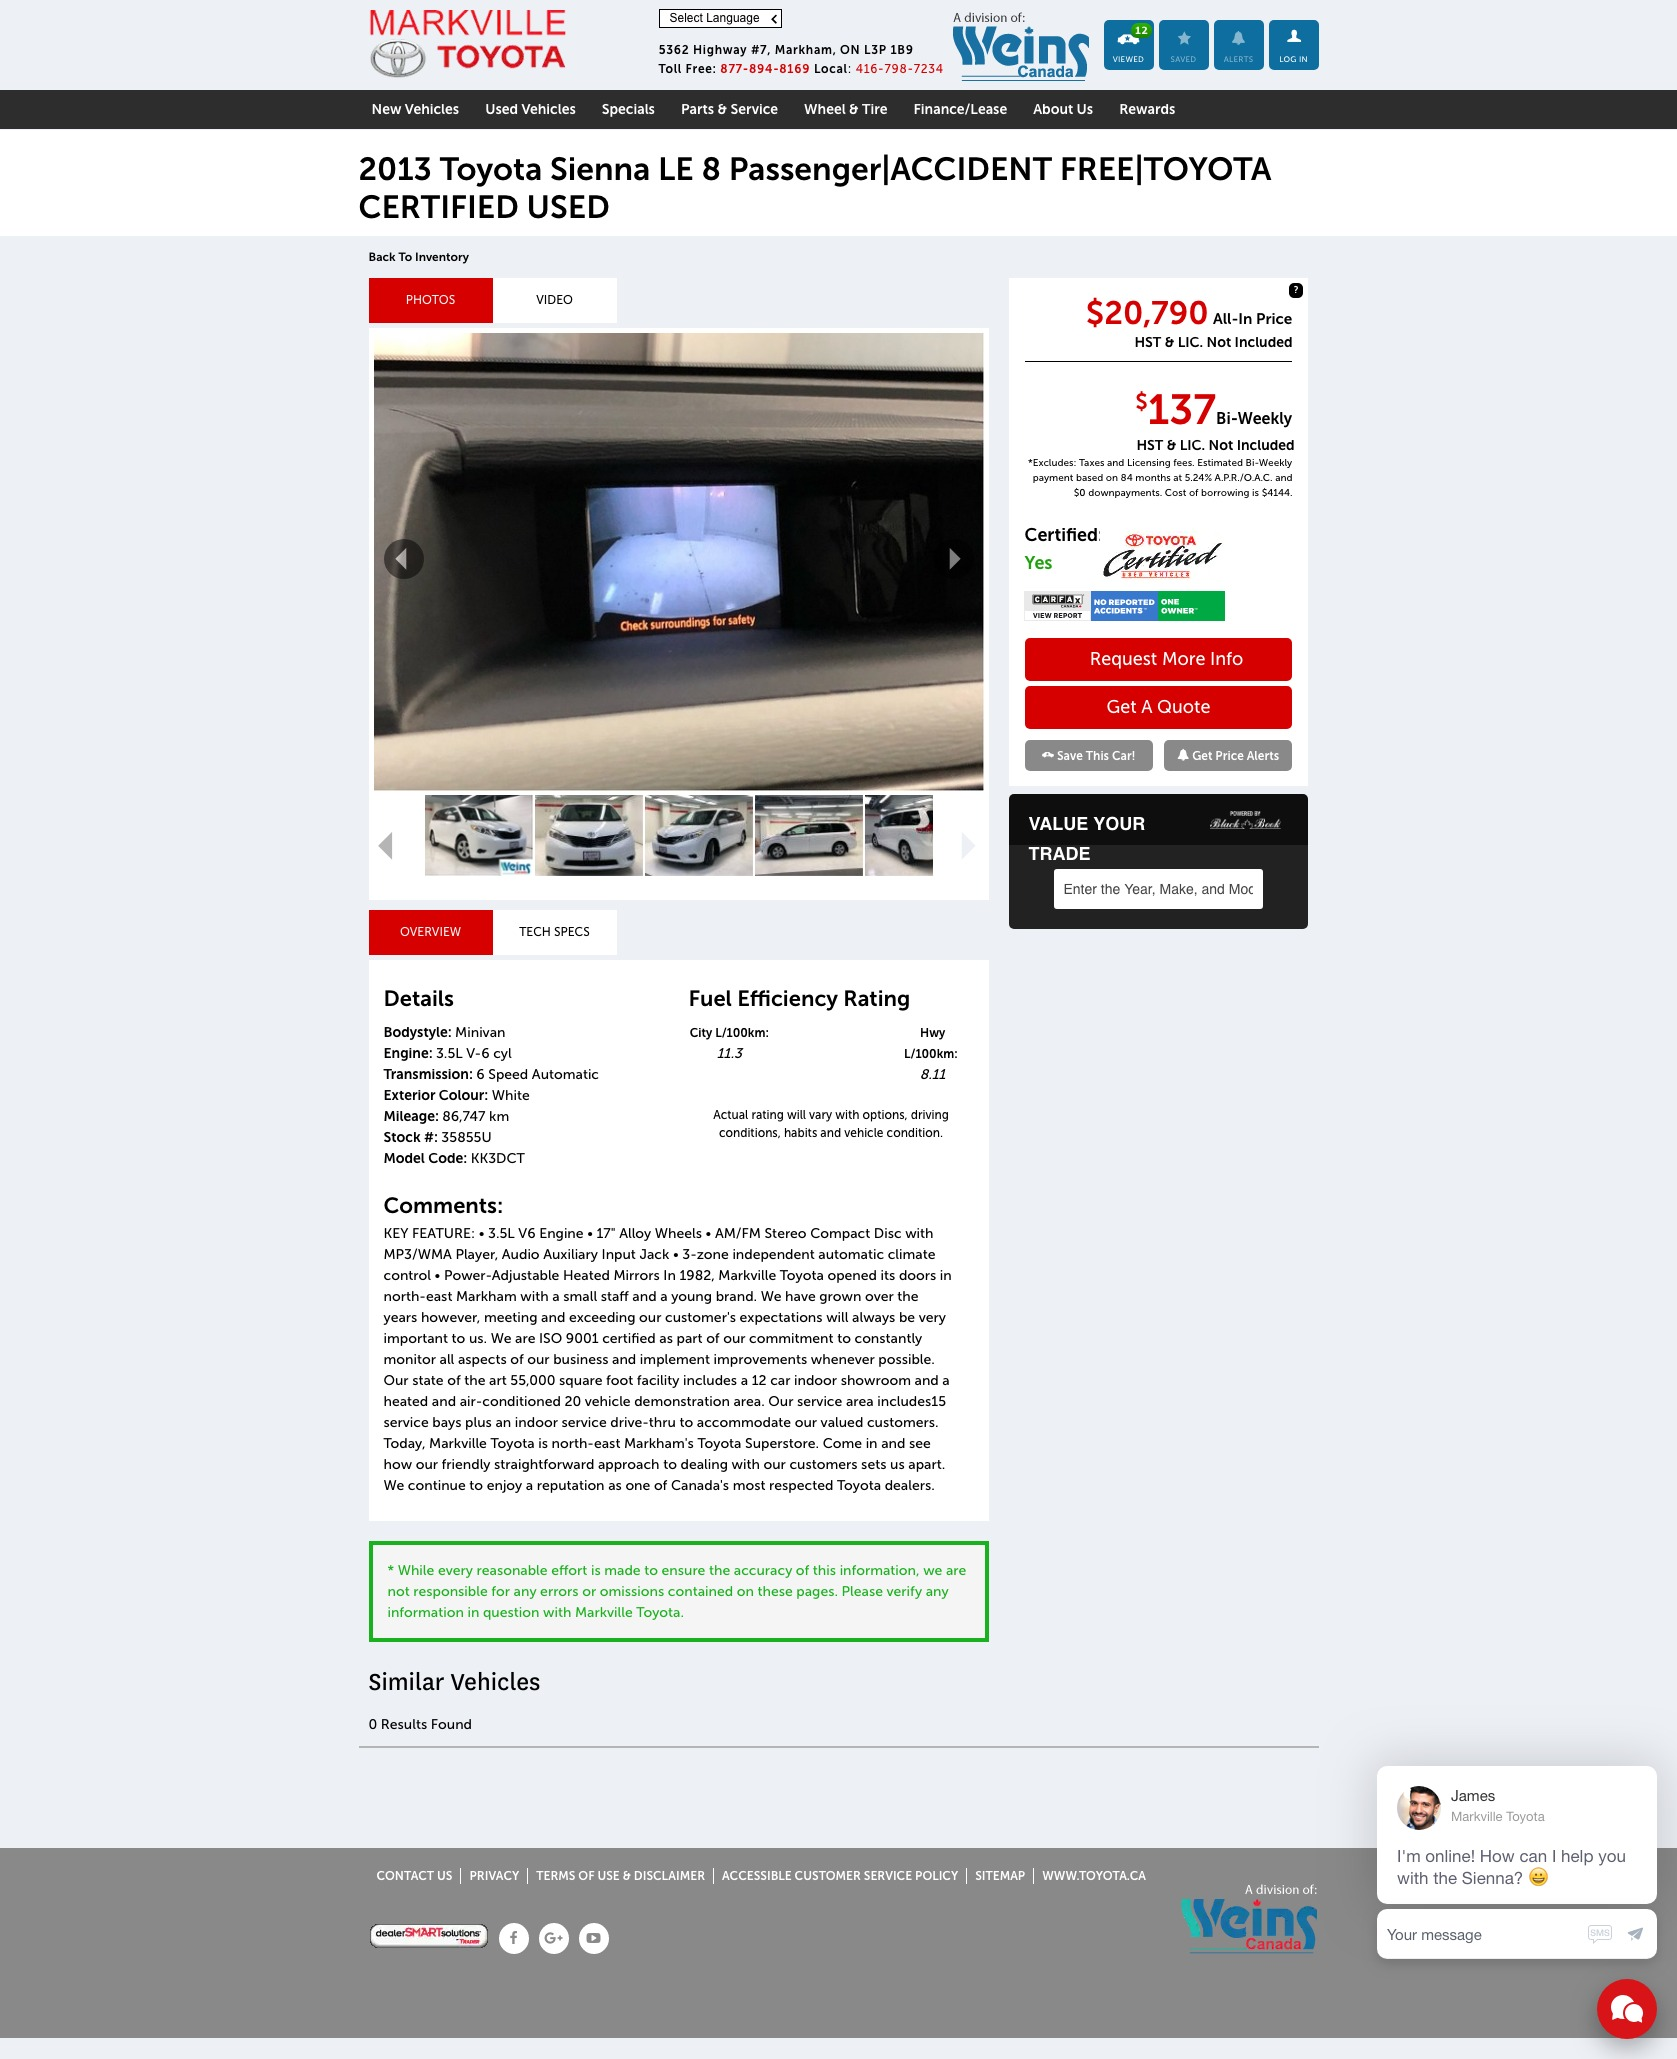car: (950, 549, 961, 569)
